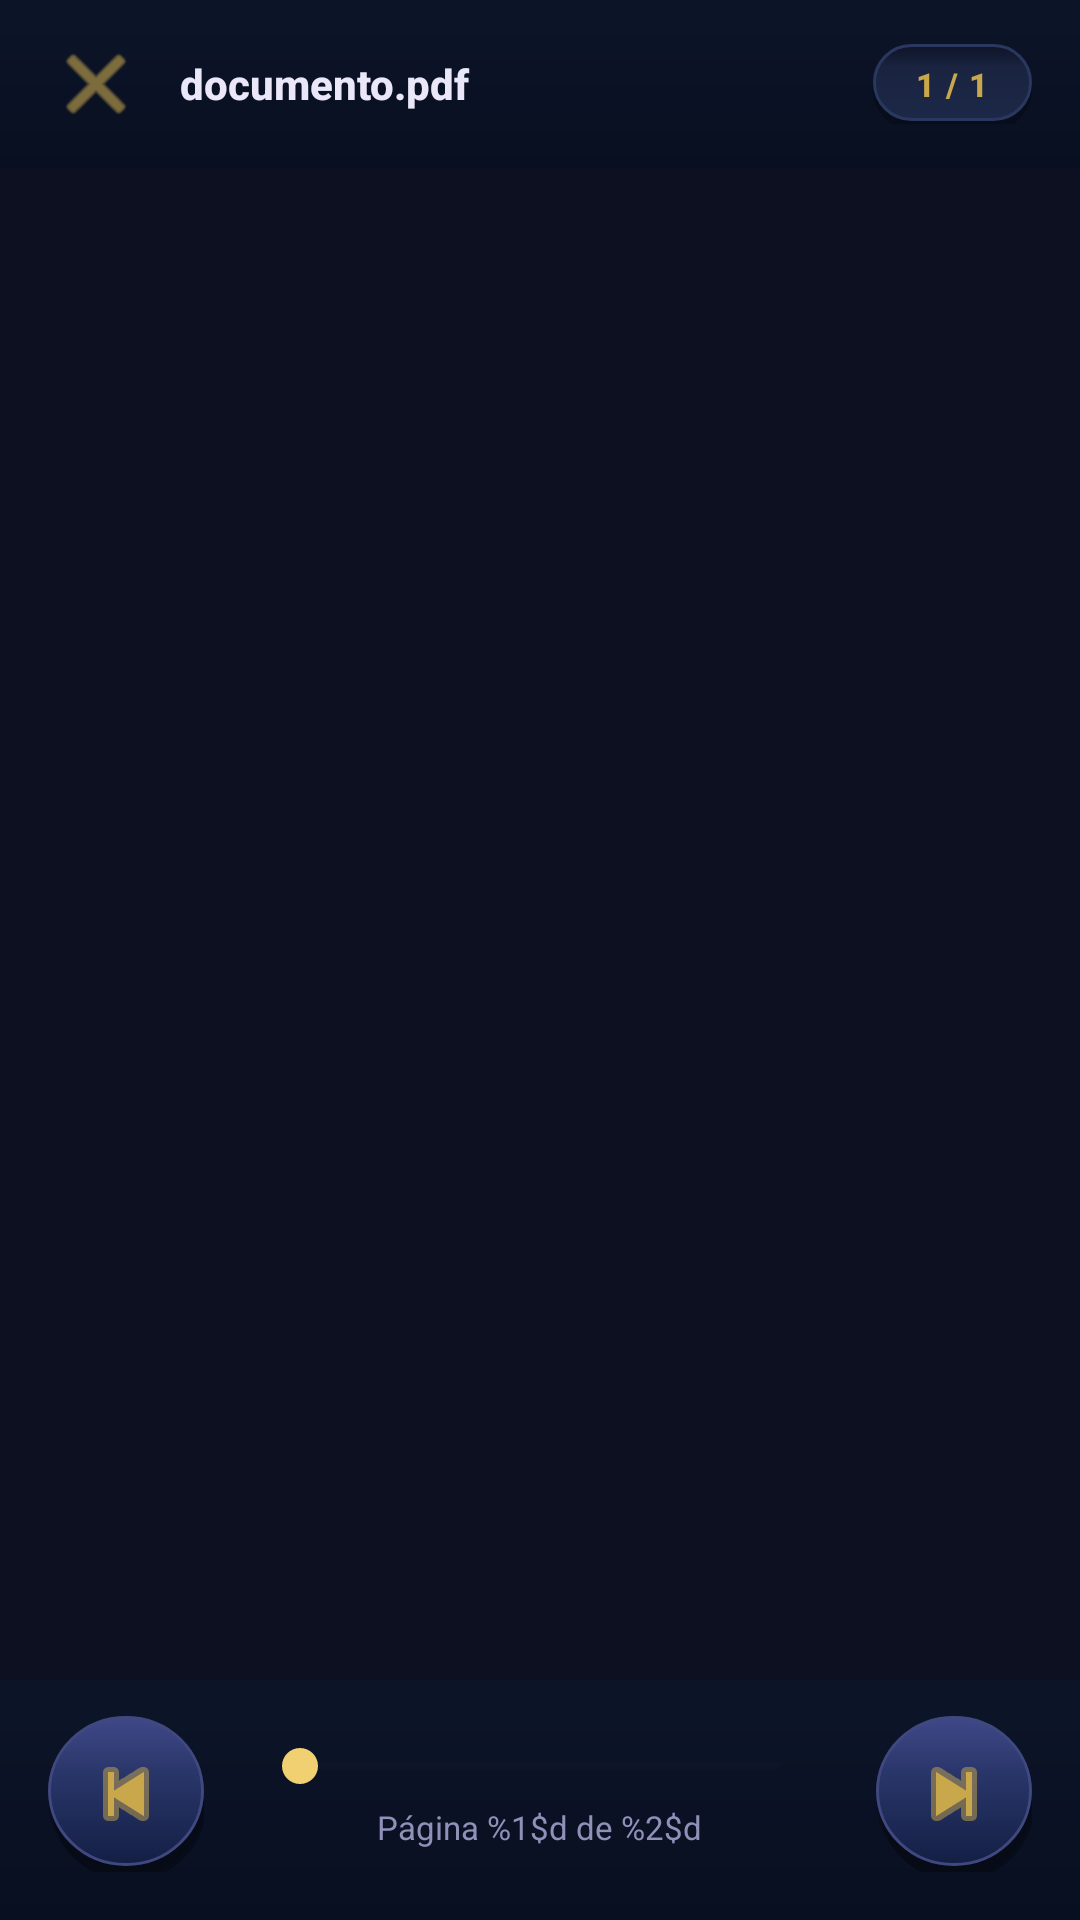

Where to tap for icons on this 1080×1920 app screen, as (x,y):
Fechar: (96,84)
Próxima página: (954,1791)
Página anterior: (126,1791)
